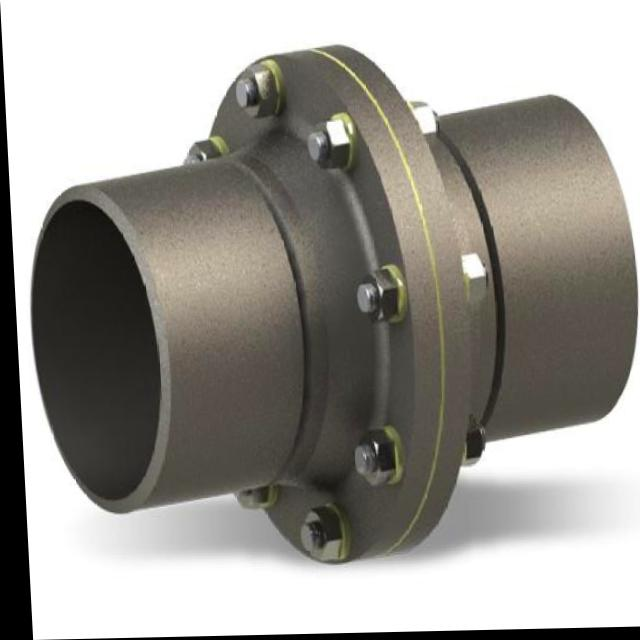Regular bolt: (236, 64, 278, 123), (297, 510, 337, 567), (357, 272, 397, 325), (353, 437, 392, 488), (309, 121, 349, 170), (459, 255, 487, 305), (409, 102, 439, 145), (459, 425, 485, 468), (185, 142, 220, 167)
